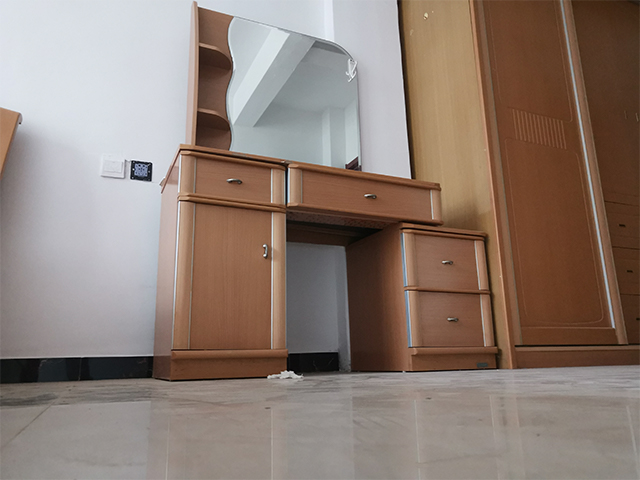cabinet: (398, 1, 639, 370), (163, 142, 502, 382)
